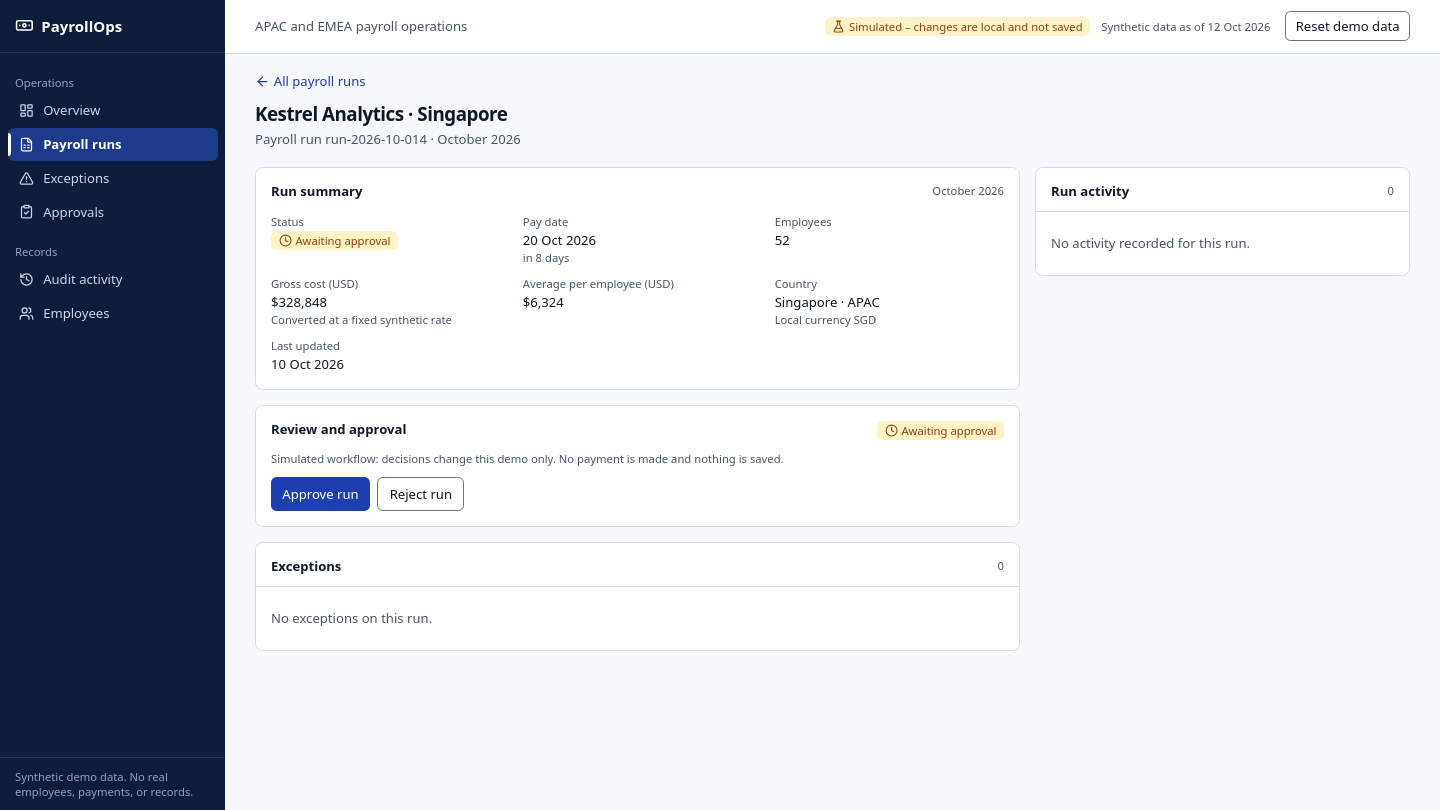
Scenario: one workflow, every view › hides a stale outcome message after Reset on the same page, and keeps focus on the Reset button
Step 1. Click the button "Approve run" → (320, 494), box [271,477,370,511]
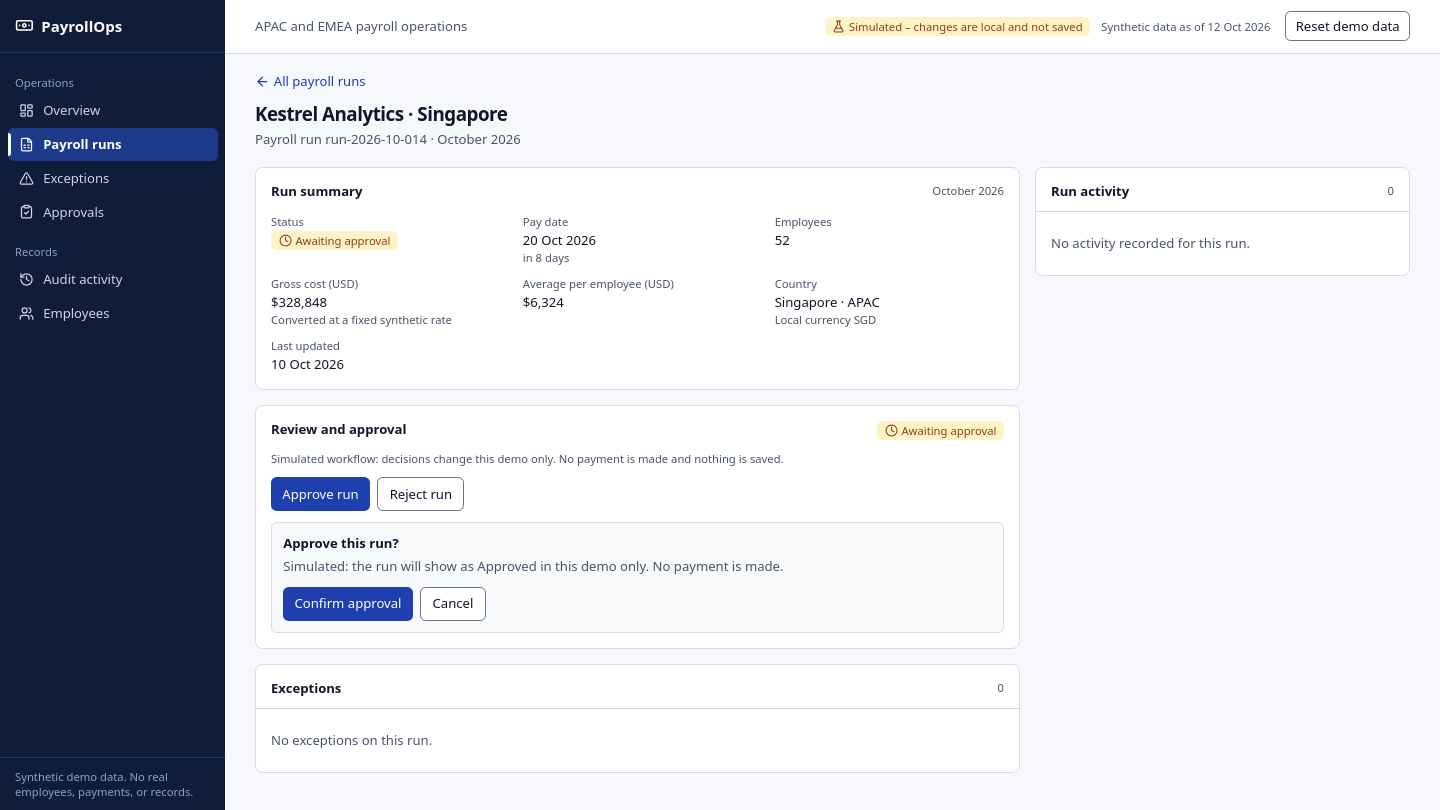
Step 2. Click the button "Confirm approval" → (348, 604), box [283,587,413,621]
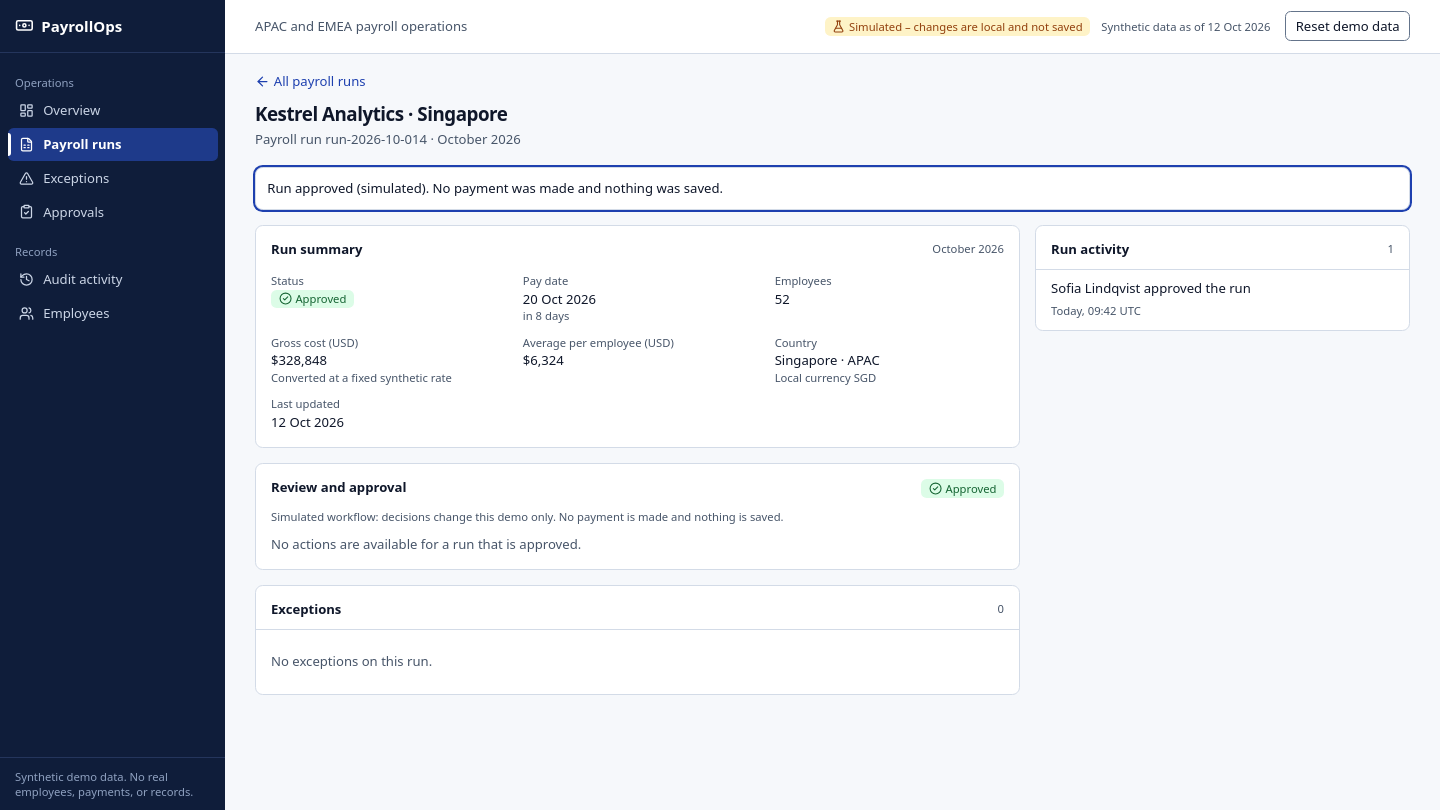
Expected: the message shows "Run approved (simulated)", [267,179,723,197]
Step 3. Click the button "Reset demo data" → (1348, 26), box [1285,11,1410,41]
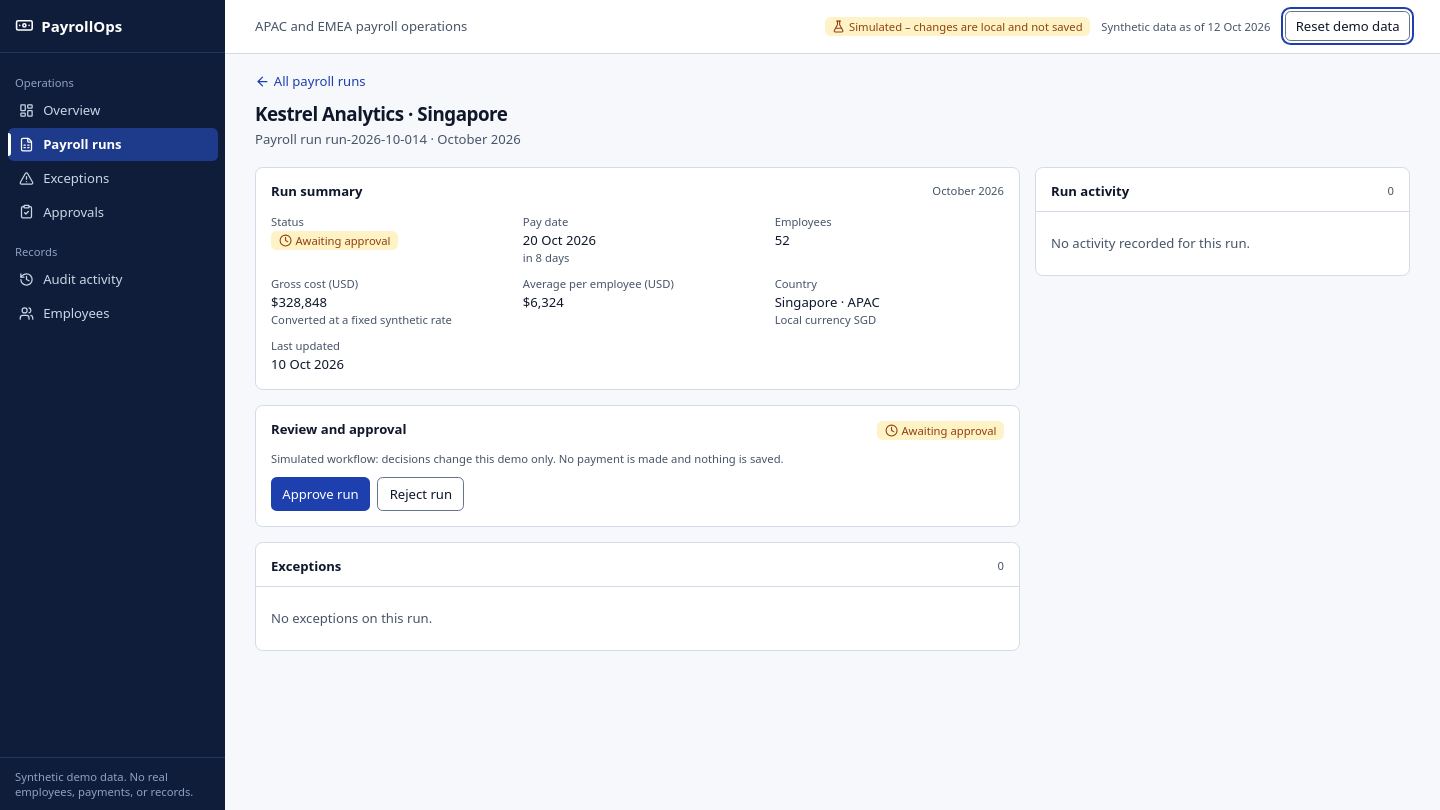
Expected: the text "Awaiting approval" below "Status" is shown, [295,233,390,248]
Expected: the button "Approve run" is enabled, [271,477,370,511]
Expected: the text "No activity recorded for this run." is shown, [1036,211,1409,276]
